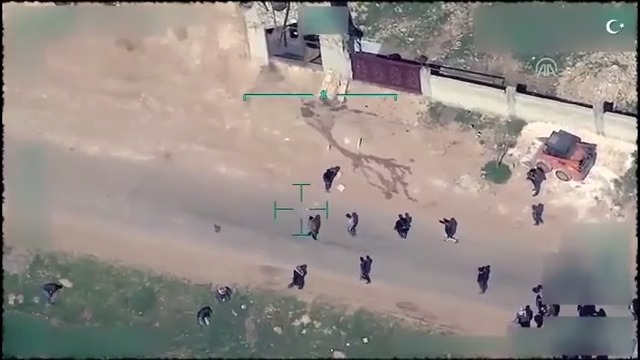insan: (436, 210, 464, 249), (321, 161, 338, 197)
